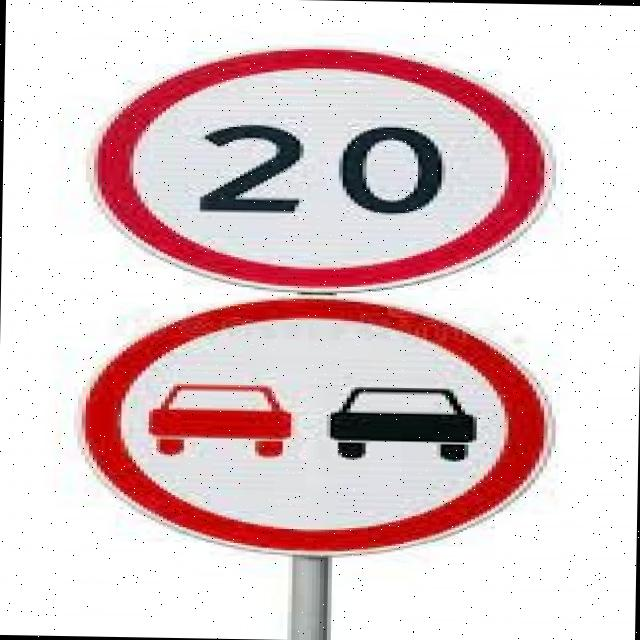no_passing: (34, 288, 585, 570)
speed_limit_20: (67, 38, 582, 295)
